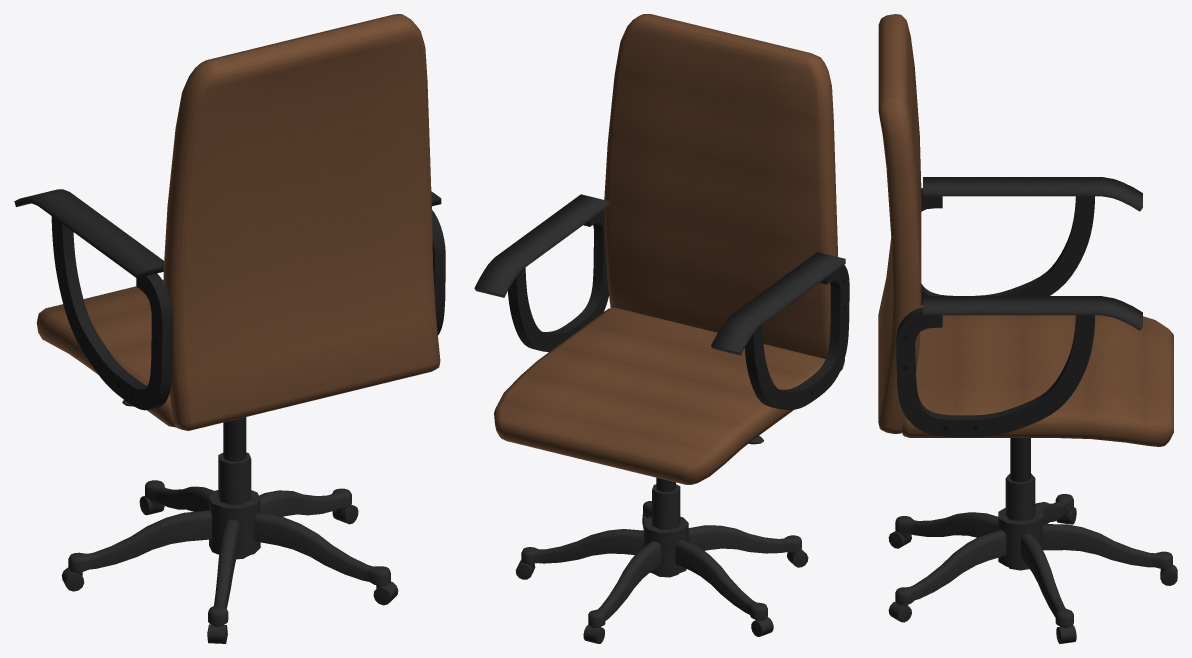
The model's file is 3Dimage_savanna.glb.
The picture shows the model from 3 angles, left to right: view 1: azimuth 30°, elevation 25°; view 2: azimuth 150°, elevation 25°; view 3: azimuth 270°, elevation 25°; orthographic projection. The views are drawn at different scales.
Parts seen in each view (by area): view 1: OfficeChair01; view 2: OfficeChair01; view 3: OfficeChair01.
Part boxes in pixels (x1=…): OfficeChair01: x1=14, y1=14, x2=445, y2=643; OfficeChair01: x1=474, y1=14, x2=849, y2=643; OfficeChair01: x1=878, y1=14, x2=1177, y2=643.
Size of the model in its own units: 0.6776 by 1.25 by 0.6427.
Materials: 1 (1 with a texture image).
